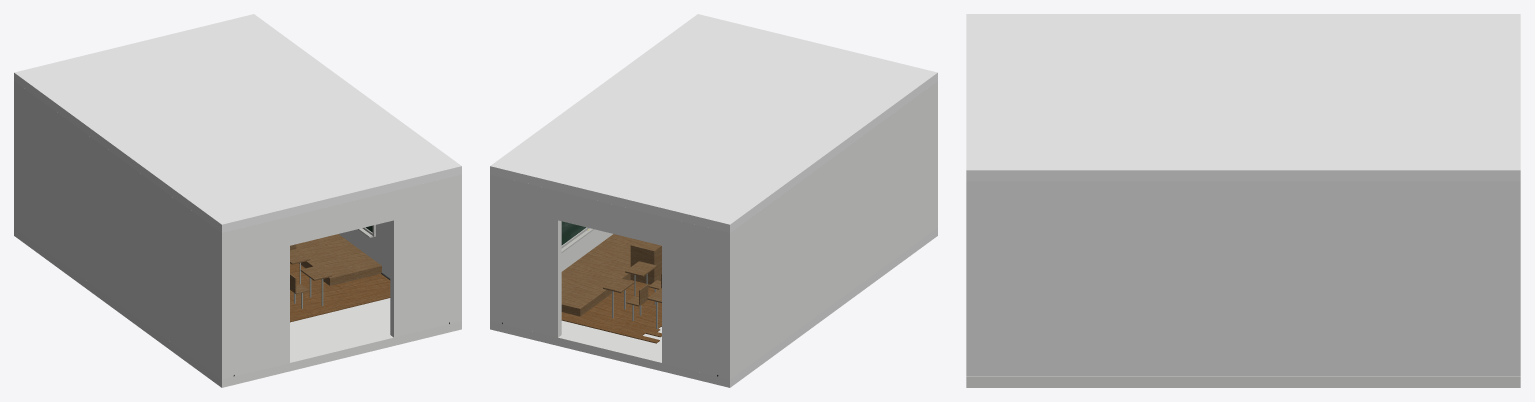
File: room_classroom_s3.glb
3 renders of one model, left to right at view 1: azimuth 30°, elevation 25°; view 2: azimuth 150°, elevation 25°; view 3: azimuth 270°, elevation 25°, orthographic. The views are drawn at different scales.
Parts seen in each view (by area): view 1: room_classroom_s3_static; view 2: room_classroom_s3_static; view 3: room_classroom_s3_static.
Boxes of the visible parts, x1,y1,x2,y2 form: room_classroom_s3_static: (14, 14, 461, 387); room_classroom_s3_static: (490, 14, 937, 387); room_classroom_s3_static: (966, 14, 1520, 387).
Size of the model in its own units: 6 by 3.9 by 9.
Materials: 16 (3 with a texture image).
